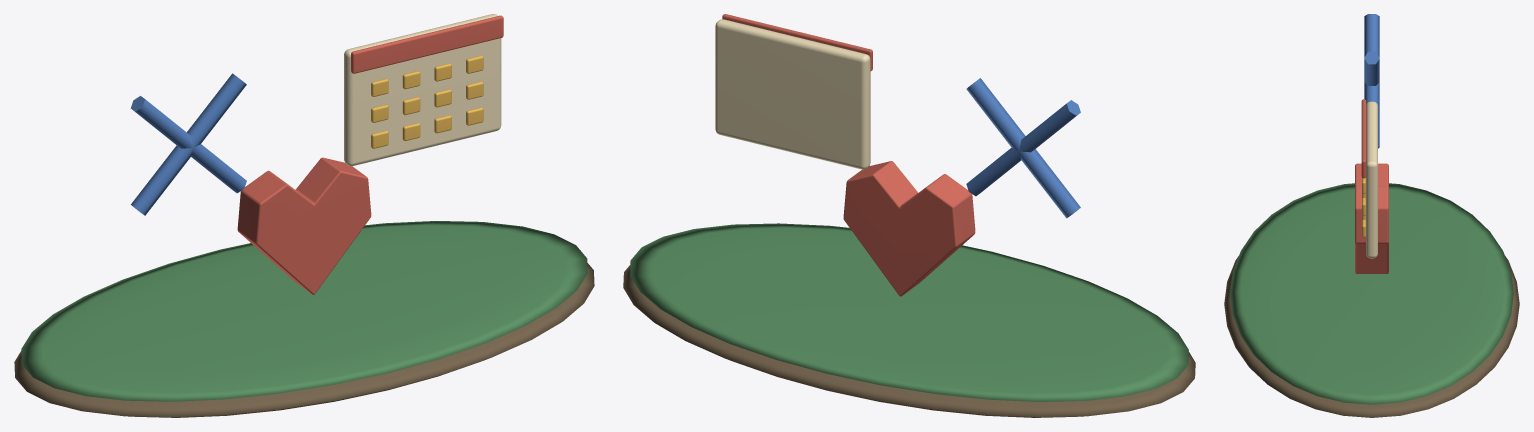
The model's file is complete-first-very-unusual.glb.
The picture shows the model from 3 angles, left to right: view 1: azimuth 30°, elevation 25°; view 2: azimuth 150°, elevation 25°; view 3: azimuth 270°, elevation 25°; orthographic projection. The views are drawn at different scales.
Visible parts, largest first — view 1: complete-first-very-unusual_surface_01, complete-first-very-unusual_surface_04, complete-first-very-unusual_surface_03, complete-first-very-unusual_surface_00, complete-first-very-unusual_surface_02, complete-first-very-unusual_surface_05; view 2: complete-first-very-unusual_surface_01, complete-first-very-unusual_surface_03, complete-first-very-unusual_surface_04, complete-first-very-unusual_surface_00, complete-first-very-unusual_surface_02; view 3: complete-first-very-unusual_surface_01, complete-first-very-unusual_surface_00, complete-first-very-unusual_surface_04, complete-first-very-unusual_surface_03, complete-first-very-unusual_surface_02.
Boxes of the visible parts, x1,y1,x2,y2 form: complete-first-very-unusual_surface_01: (21, 221, 587, 401); complete-first-very-unusual_surface_04: (237, 15, 503, 294); complete-first-very-unusual_surface_03: (344, 14, 501, 166); complete-first-very-unusual_surface_00: (14, 263, 594, 417); complete-first-very-unusual_surface_02: (130, 73, 246, 215); complete-first-very-unusual_surface_05: (371, 55, 483, 148); complete-first-very-unusual_surface_01: (630, 223, 1188, 401); complete-first-very-unusual_surface_03: (715, 19, 870, 169); complete-first-very-unusual_surface_04: (722, 14, 975, 296); complete-first-very-unusual_surface_00: (623, 265, 1195, 417); complete-first-very-unusual_surface_02: (966, 78, 1080, 218); complete-first-very-unusual_surface_01: (1230, 183, 1513, 404); complete-first-very-unusual_surface_00: (1224, 256, 1519, 417); complete-first-very-unusual_surface_04: (1355, 99, 1388, 273); complete-first-very-unusual_surface_03: (1366, 101, 1377, 258); complete-first-very-unusual_surface_02: (1364, 14, 1379, 148).
Size of the model in its own units: 4.56 by 2.22 by 2.5.
